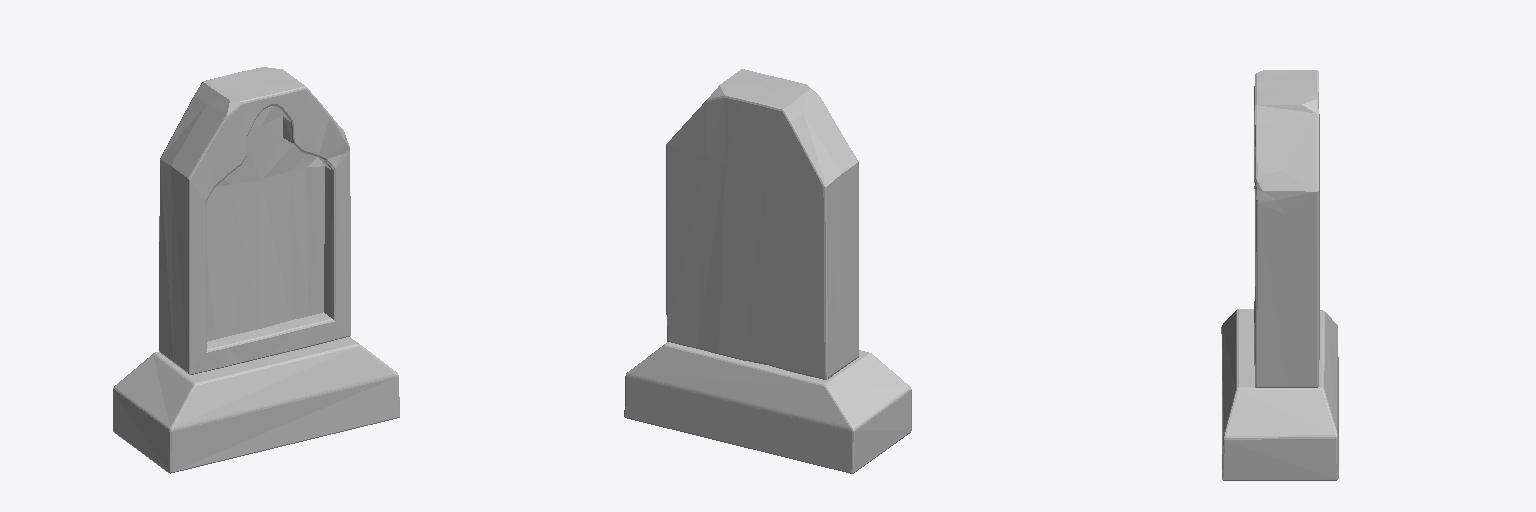
File: Grabstein02_LP_Uwrapped_zbrush.obj
3 views of the same model, side by side, from view 1: azimuth 30°, elevation 25°; view 2: azimuth 150°, elevation 25°; view 3: azimuth 270°, elevation 25° (orthographic).
Visible parts, largest first — view 1: ZBrush_defualt_group; view 2: ZBrush_defualt_group; view 3: ZBrush_defualt_group.
Part boxes in pixels (x1,y1,x2,y2): ZBrush_defualt_group: (113,67,399,473); ZBrush_defualt_group: (624,69,911,473); ZBrush_defualt_group: (1221,70,1338,480).
Size of the model in its own units: 3.05 by 4.29 by 1.34.